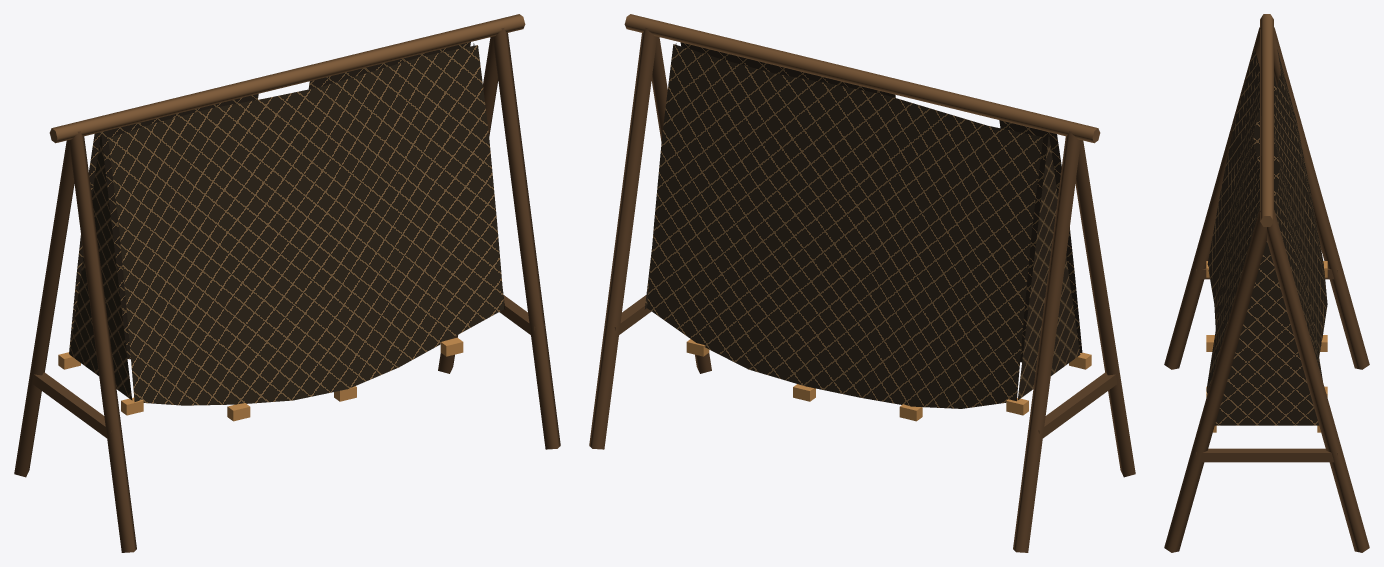
File: hanging_net.glb
3 renders of one model, left to right at view 1: azimuth 30°, elevation 25°; view 2: azimuth 150°, elevation 25°; view 3: azimuth 270°, elevation 25°, orthographic. The views are drawn at different scales.
Visible parts, largest first — view 1: Net, Rack; view 2: Net, Rack; view 3: Net, Rack.
Part boxes in pixels (x1,y1,x2,y2): Net: (69,42,505,405); Rack: (14,14,560,552); Net: (644,42,1082,408); Rack: (589,14,1135,552); Net: (1206,48,1327,425); Rack: (1164,14,1369,552).
Size of the model in its own units: 2.76 by 2.2 by 1.19.
Materials: 2 (2 with a texture image).
